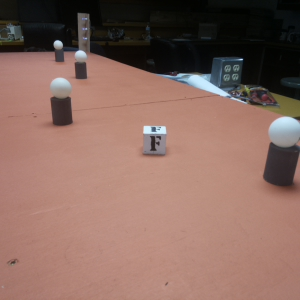blockF: (142, 125, 167, 157)
corner: (77, 12, 91, 51)
obstacle: (264, 114, 300, 189), (50, 78, 72, 126), (75, 51, 87, 81), (52, 39, 65, 61)
